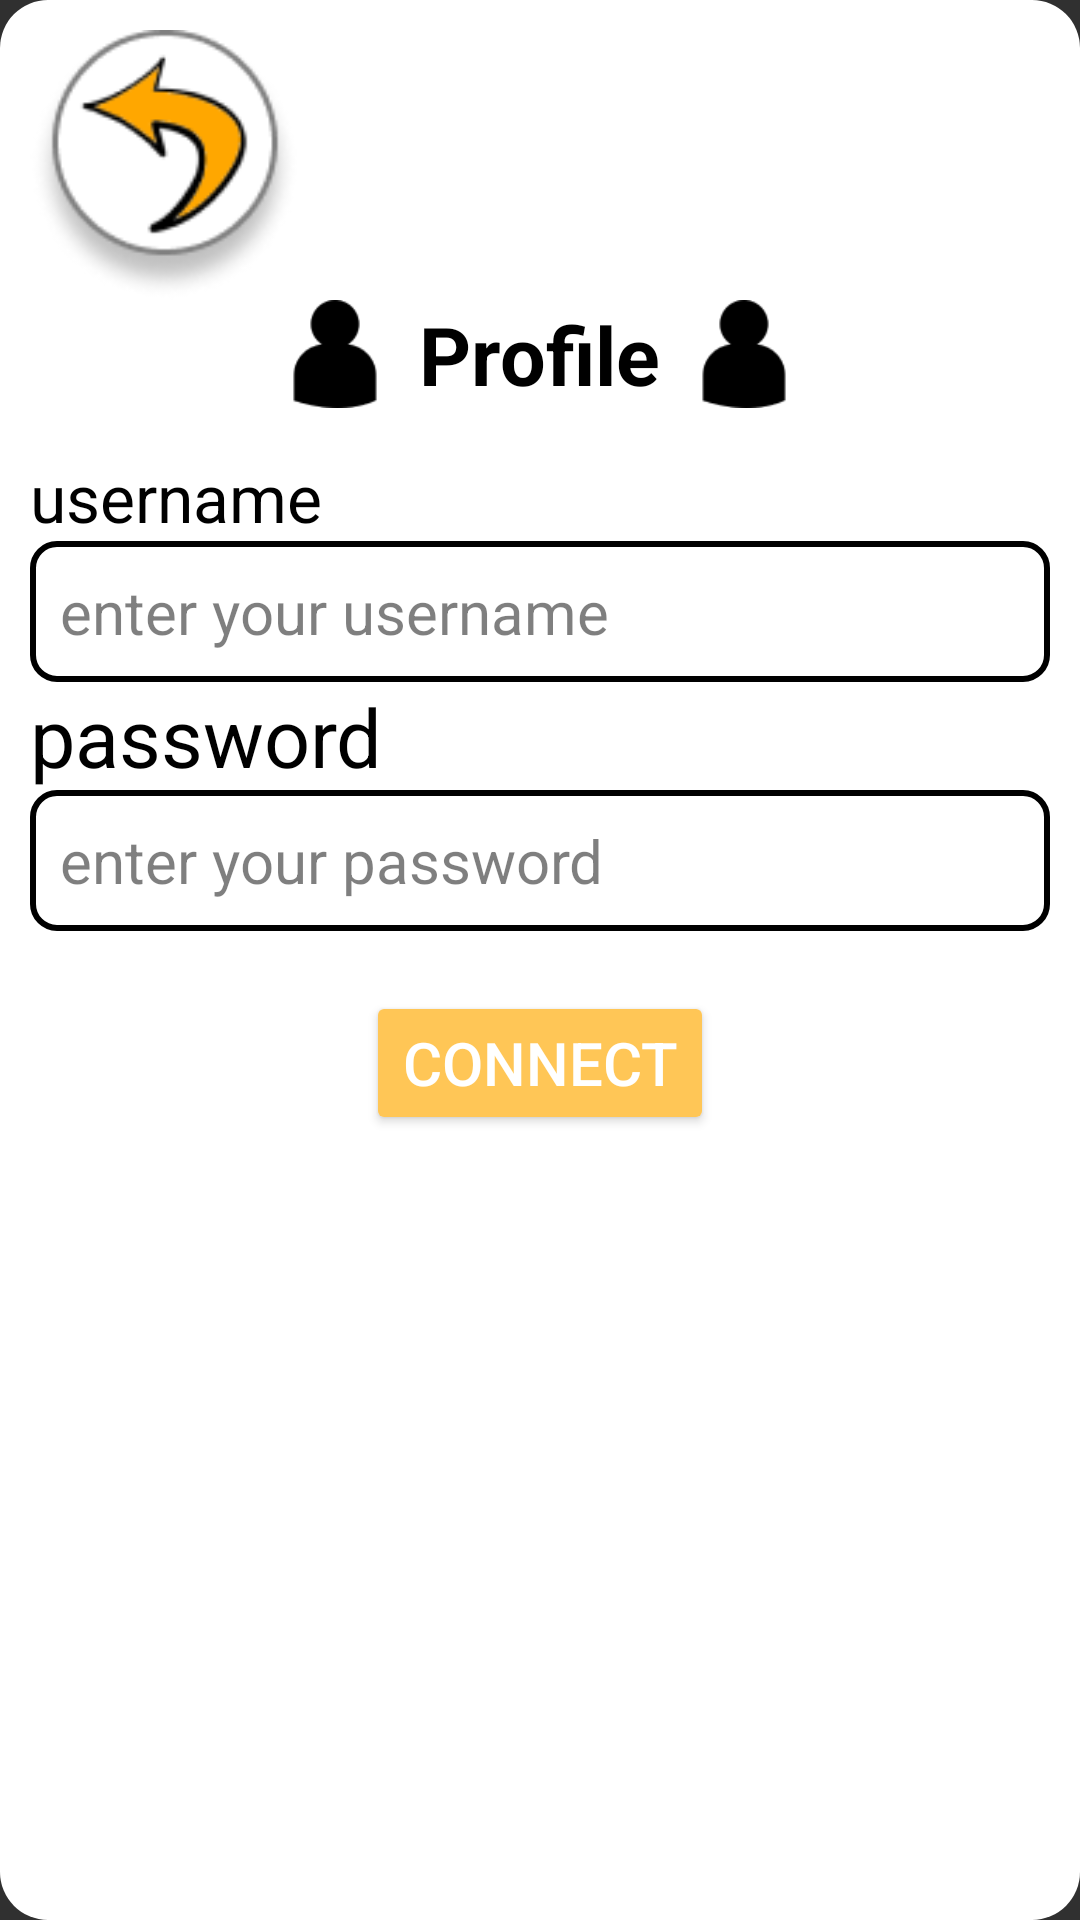

Named icons in this screenshot (1080*1920) and their bounding boxes, BBox(x1, y1, x2, y2):
returnbutton: BBox(50, 30, 280, 280)
